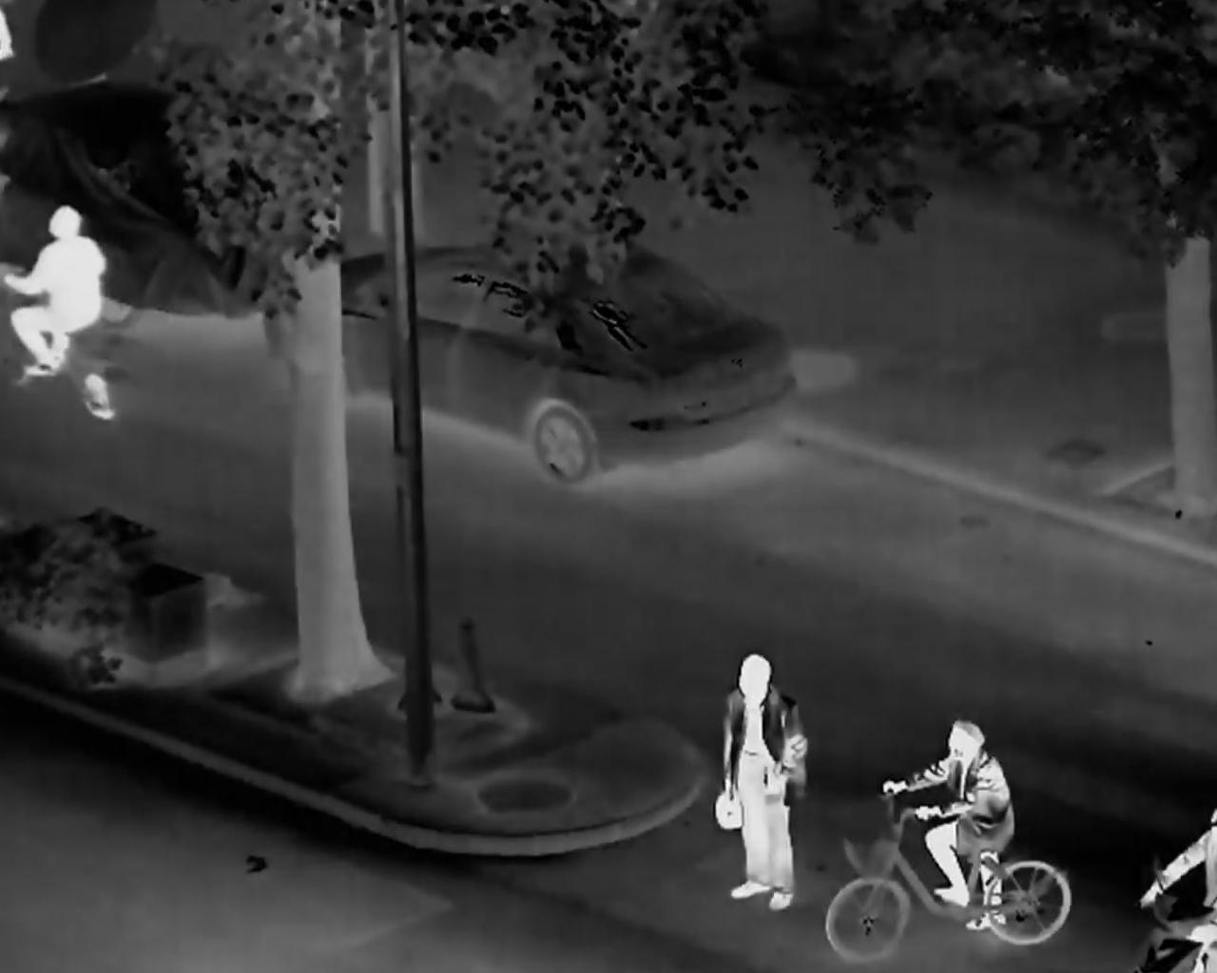person: (881, 722, 1013, 933), (715, 652, 809, 911), (5, 201, 106, 378), (1144, 803, 1217, 953)
